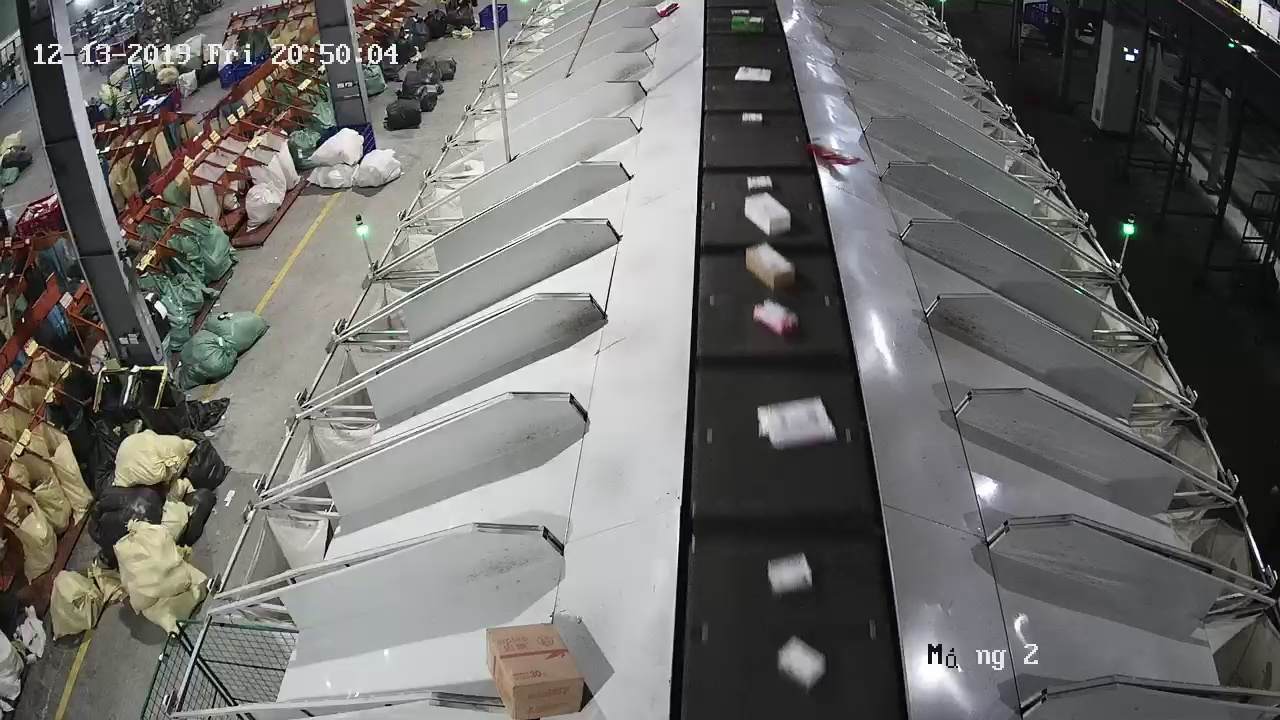parcel: (806, 136, 862, 169)
